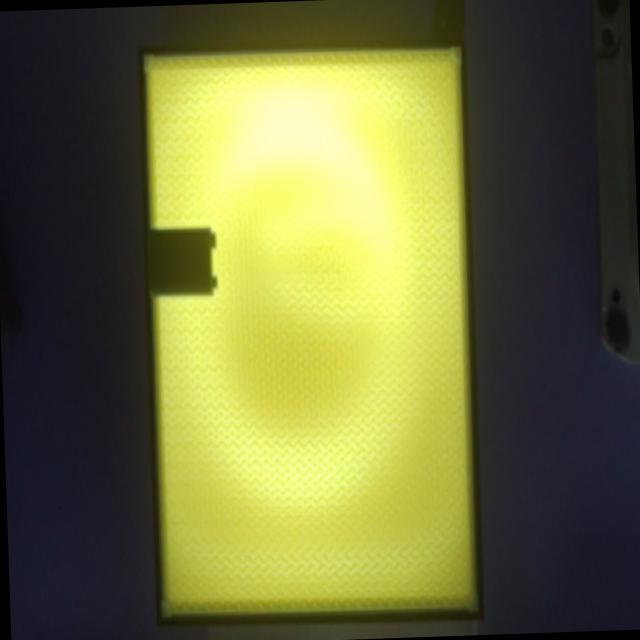bateria: (147, 228, 217, 297)
mesa: (138, 36, 483, 625)
